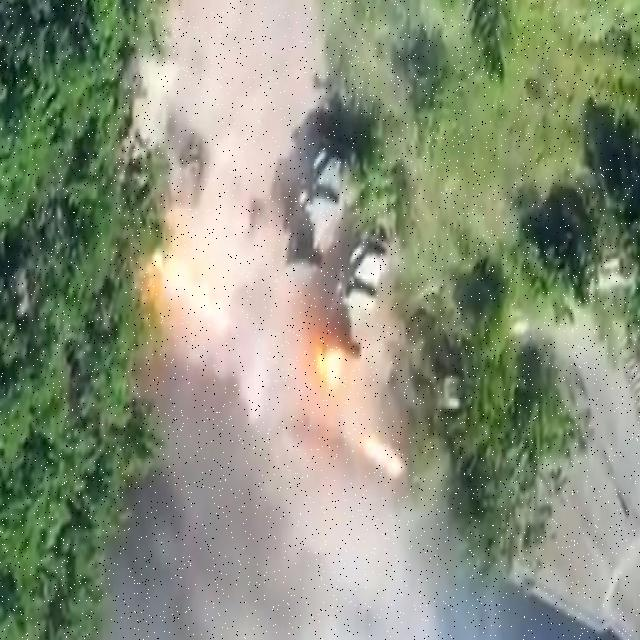MLRS: (305, 229, 390, 395), (276, 127, 362, 280)
